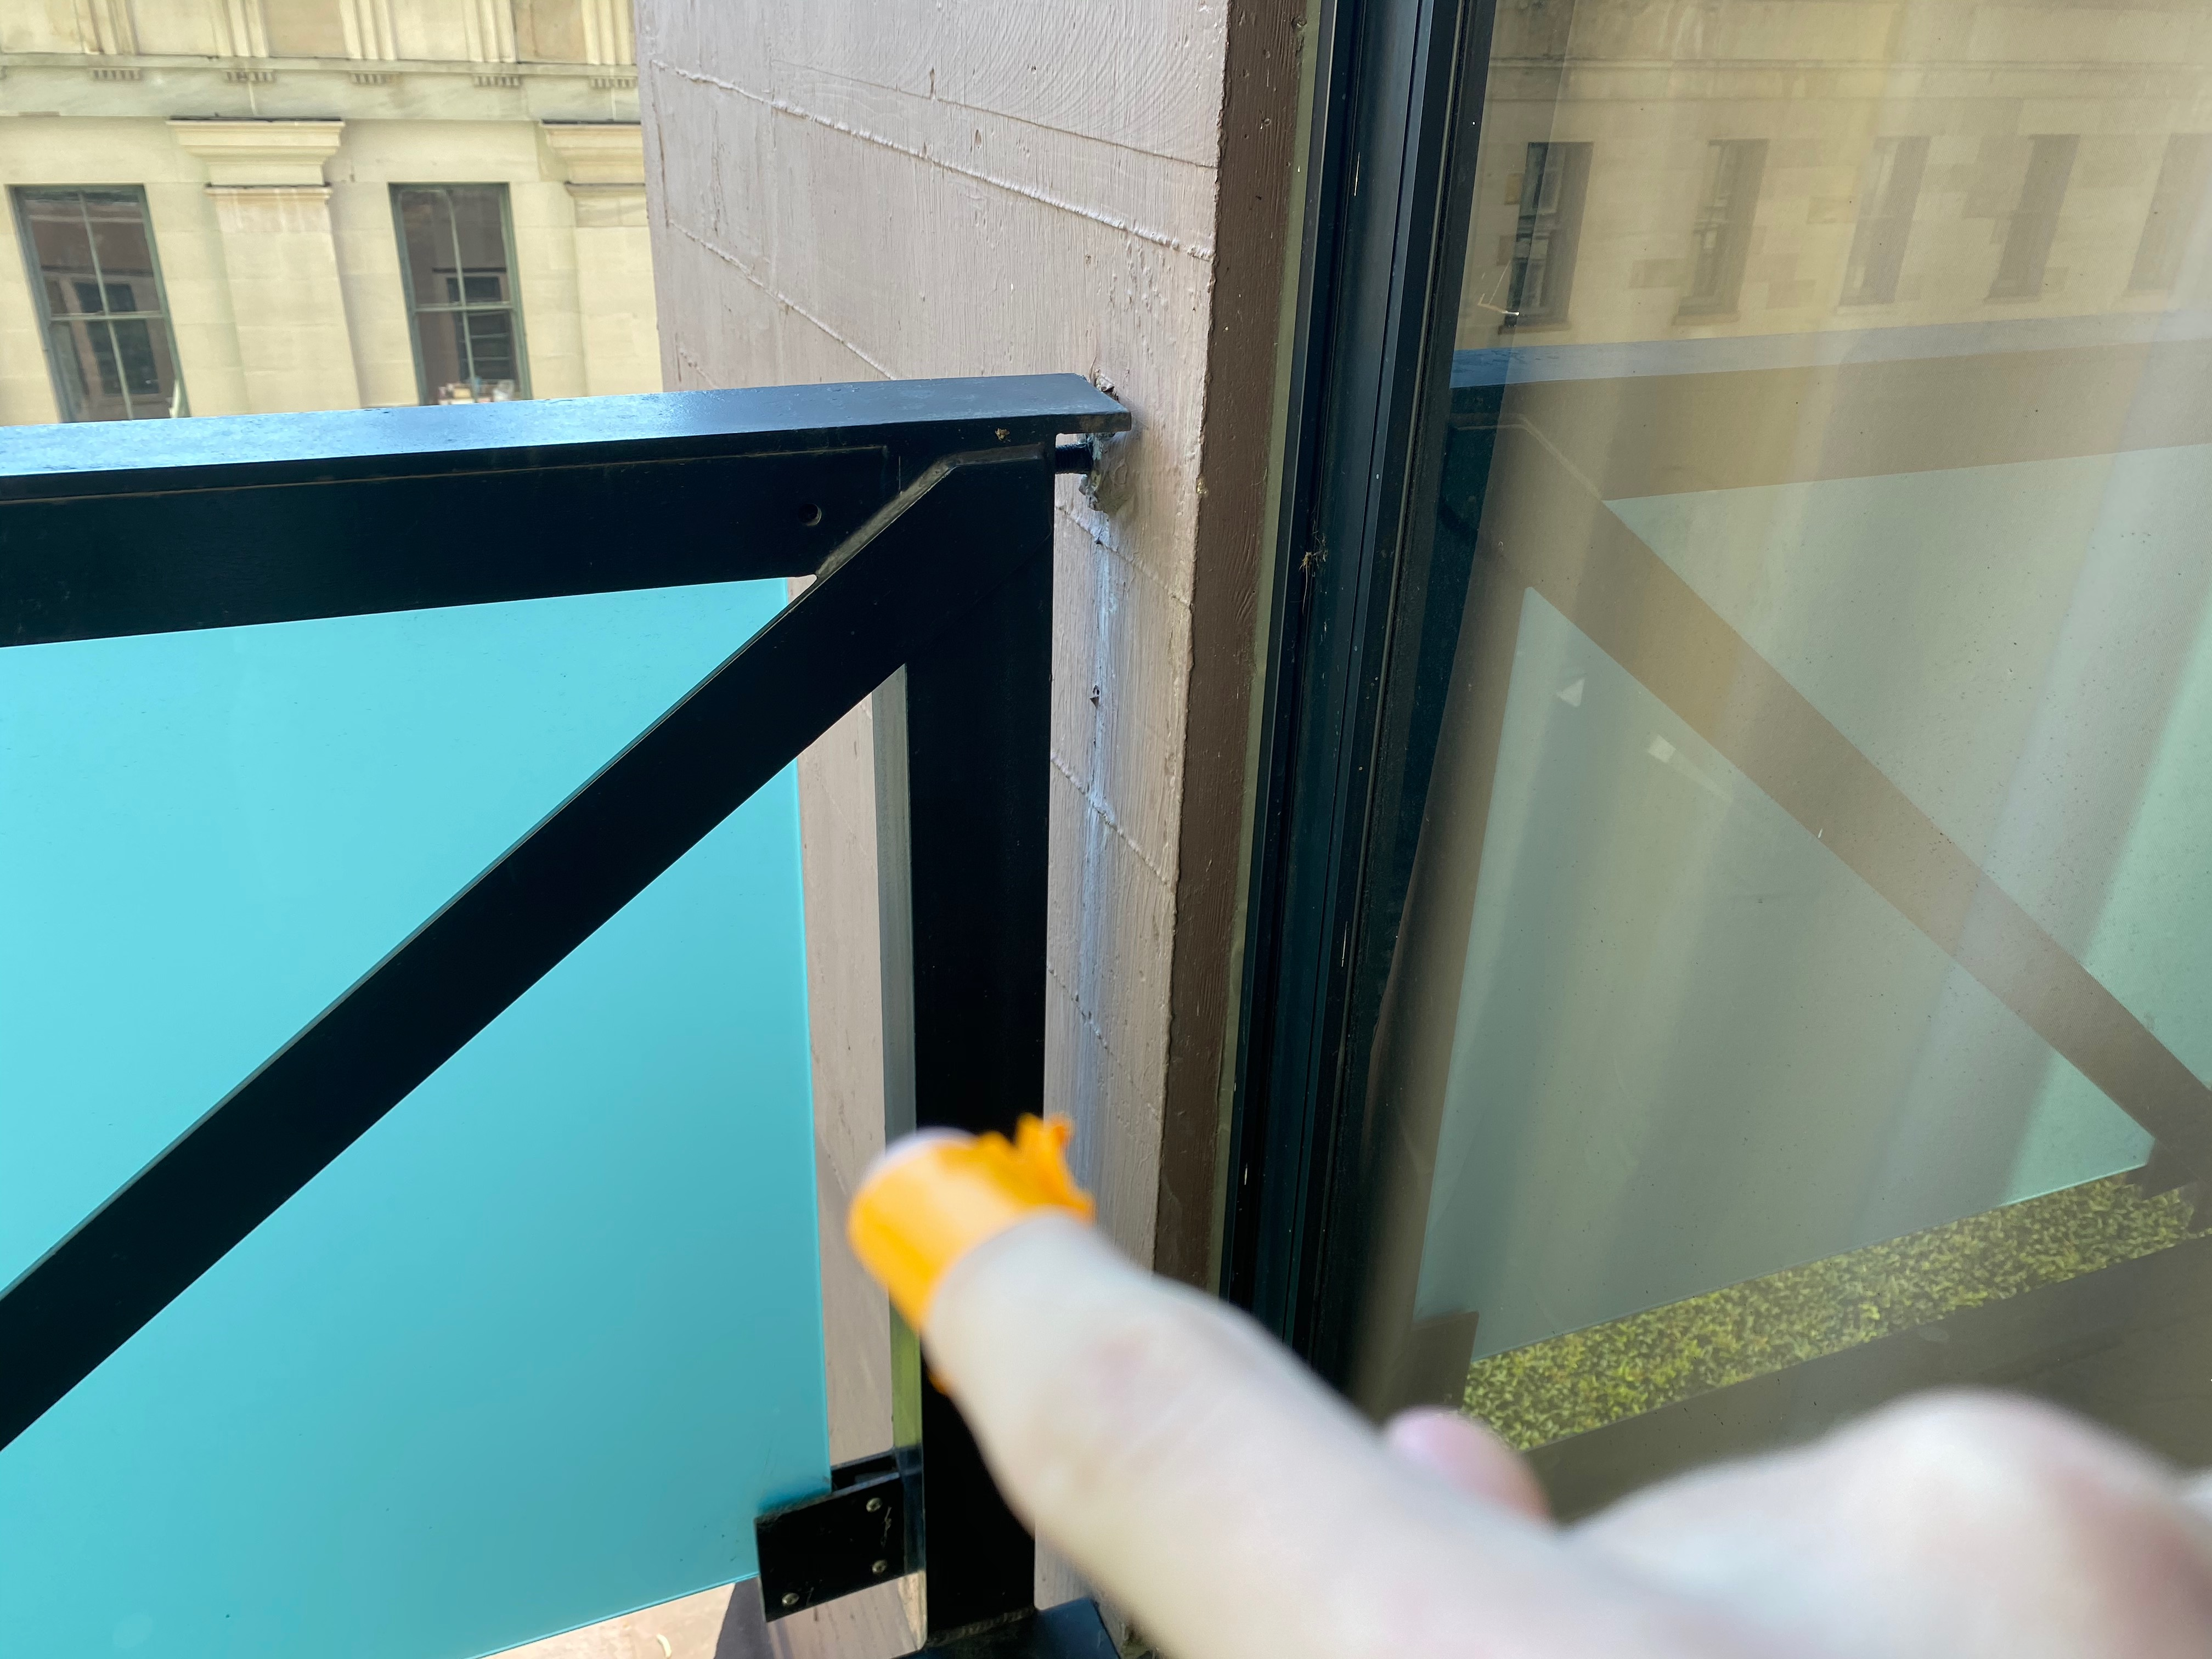fingertip: (796, 1124, 1125, 1356)
